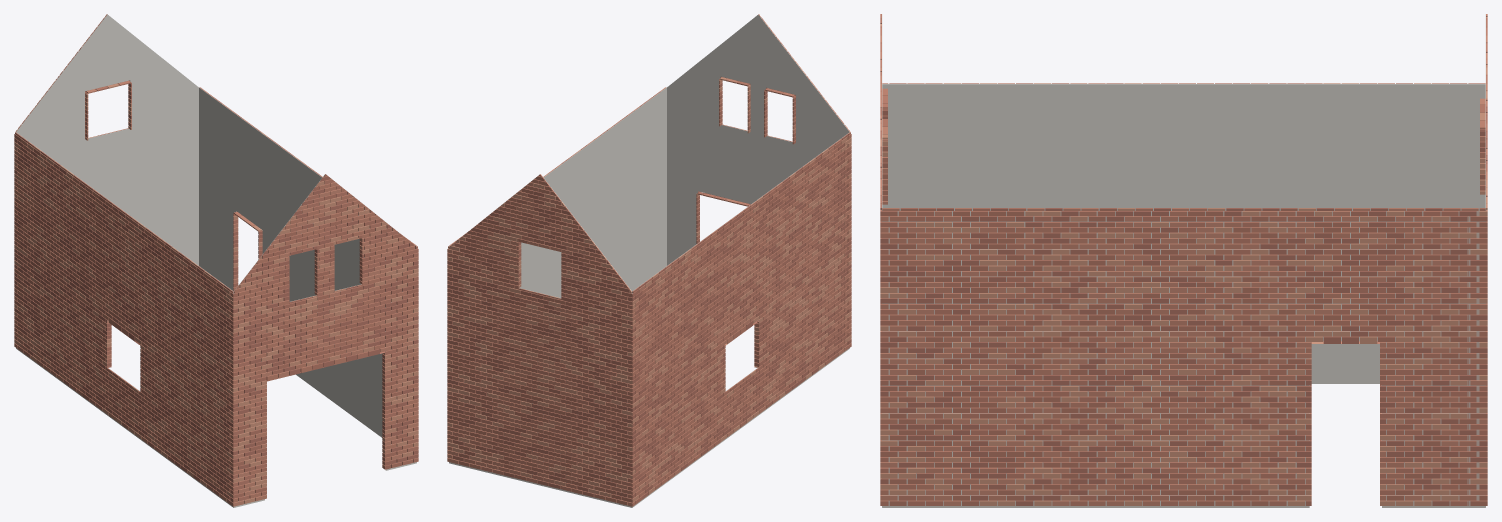
File: stage-9.glb
The picture shows the model from 3 angles, left to right: view 1: azimuth 30°, elevation 25°; view 2: azimuth 150°, elevation 25°; view 3: azimuth 270°, elevation 25°; orthographic projection. The views are drawn at different scales.
Visible parts, largest first — view 1: Geom3D (×7); view 2: Geom3D (×7); view 3: Geom3D (×7).
Part boxes in pixels (x1=…): Geom3D (×7): x1=14, y1=14, x2=418, y2=507; Geom3D (×7): x1=447, y1=14, x2=851, y2=507; Geom3D (×7): x1=880, y1=14, x2=1487, y2=507.
Bounding box in the file's own units: 3.69 × 5.93 × 7.55.
